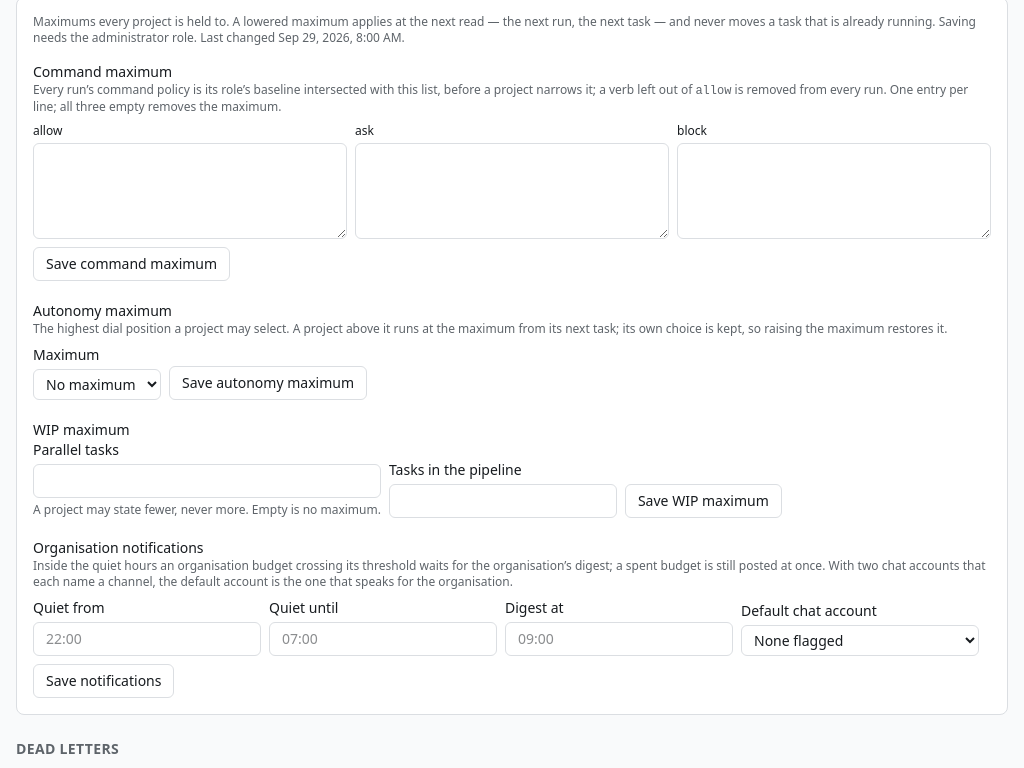
Test case: the organisation settings document on the settings page › shows the server’s refusal when the caller may not write it
(page scrolled)
Select "observe" in the dropdown named "Organisation autonomy maximum" at x=97, y=384, box [33,369,161,400]
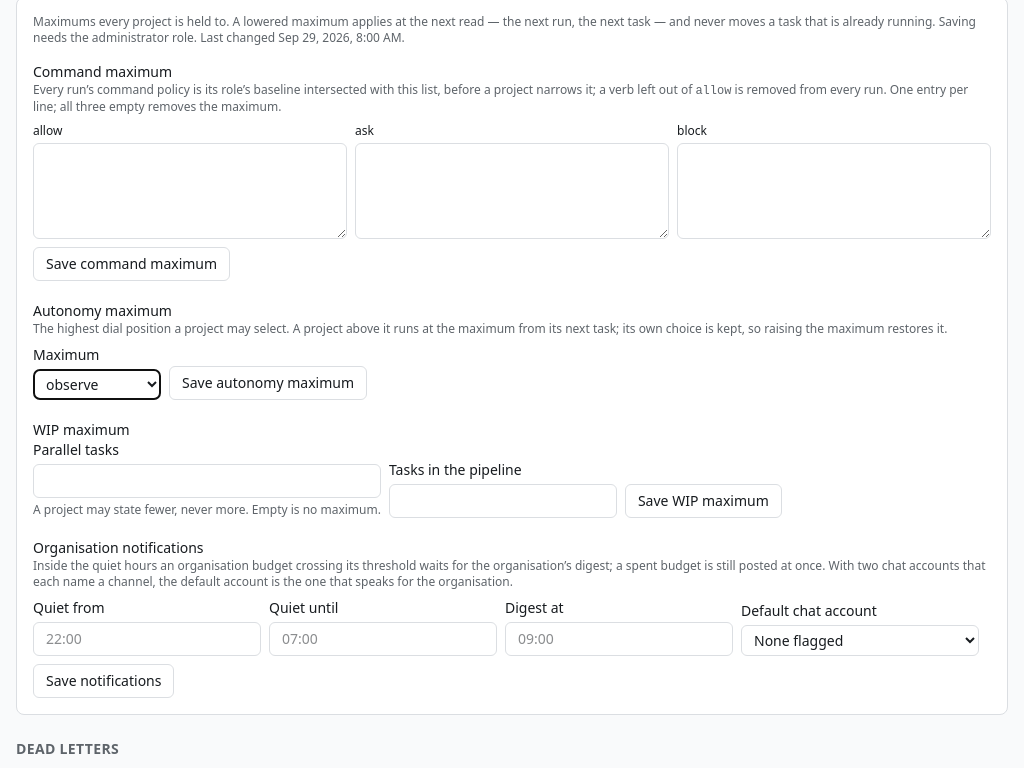
Click the button "Save autonomy maximum" at x=268, y=383, box [169,366,367,400]
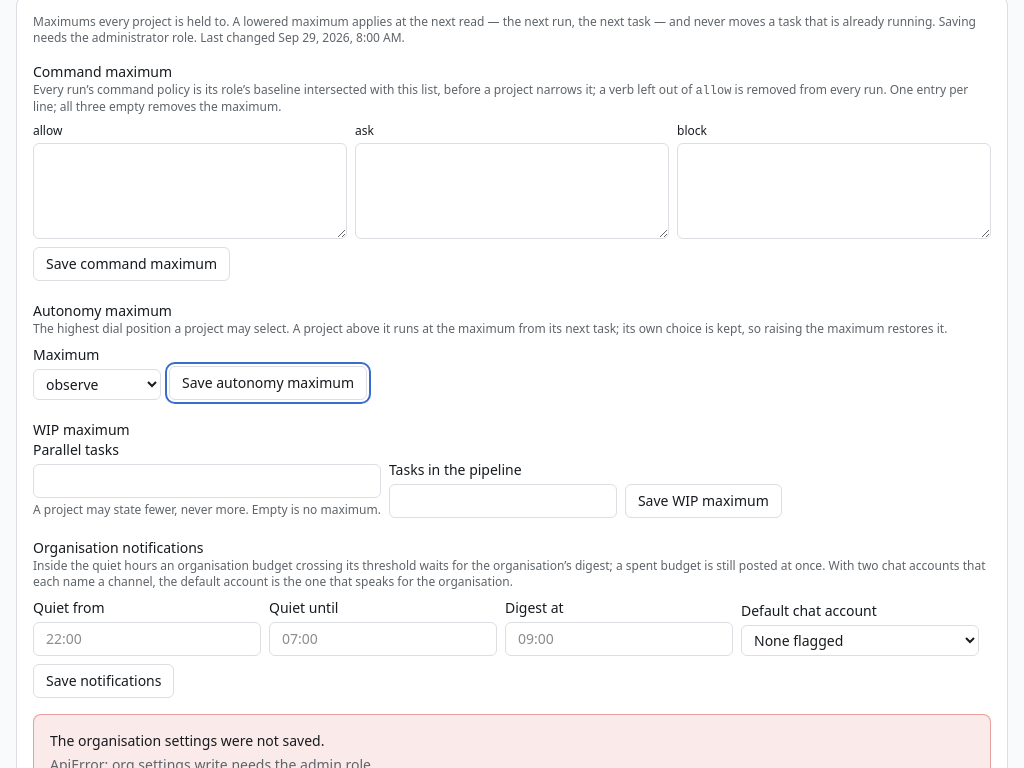
expect the text "The organisation settings were not saved." is shown: met, box [50,731,324,750]
